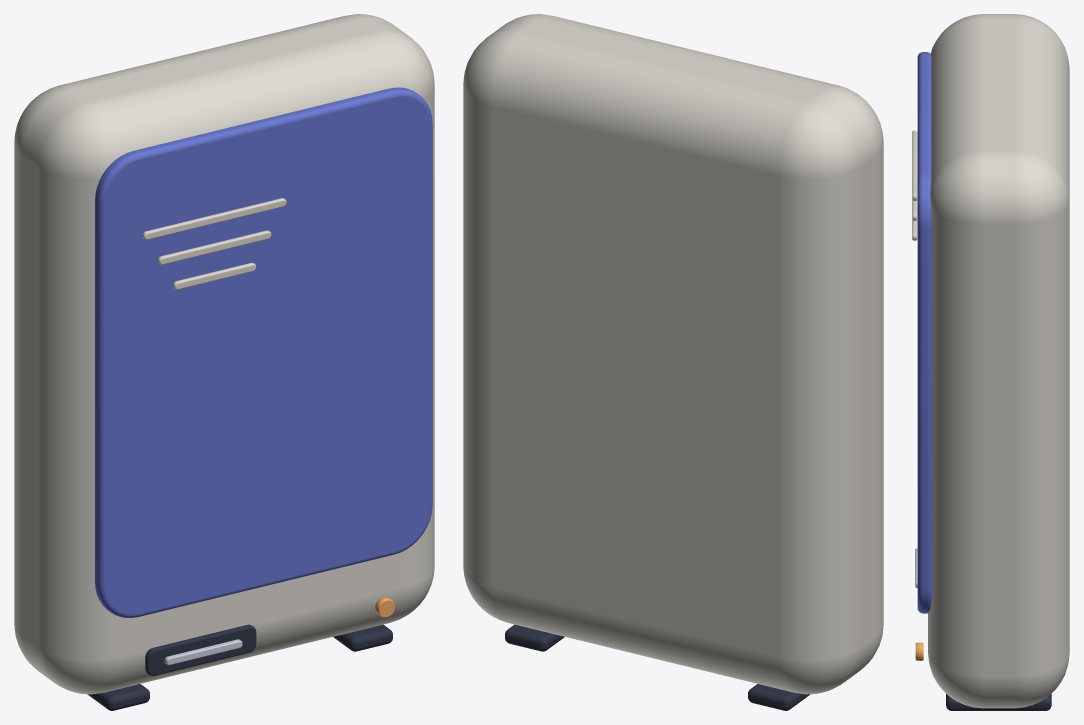
Rendered from drive.glb.
3 views of the same model, side by side, from view 1: azimuth 30°, elevation 25°; view 2: azimuth 150°, elevation 25°; view 3: azimuth 270°, elevation 25° (orthographic). The views are drawn at different scales.
Visible parts, largest first — view 1: drive; view 2: drive; view 3: drive.
Part boxes in pixels (<box>): drive: <box>14,14,434,710</box>; drive: <box>463,14,883,710</box>; drive: <box>912,14,1069,710</box>.
Size of the model in its own units: 1.28 by 1.88 by 0.4775.
